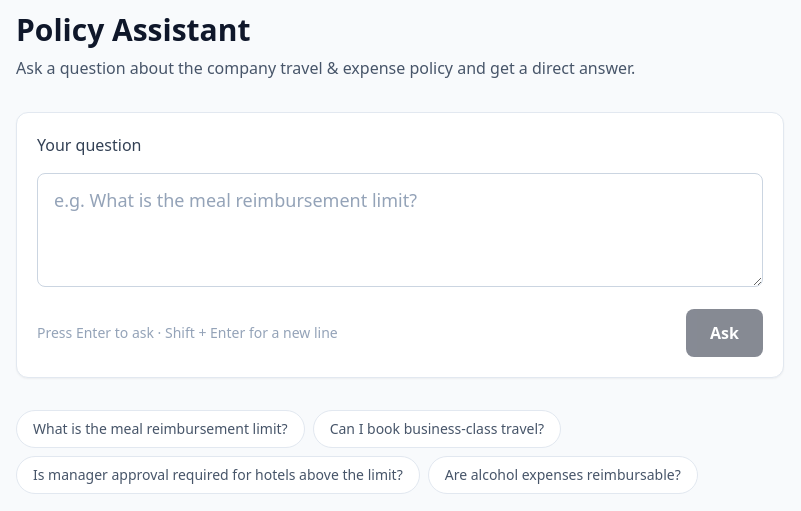
Scenario: PolicyAssistantPage › renders an error state when the request fails
The image size is (801, 511).
In the text box labelled "Your question": (400, 230) [37, 173, 763, 287], type "What is the meal limit?"
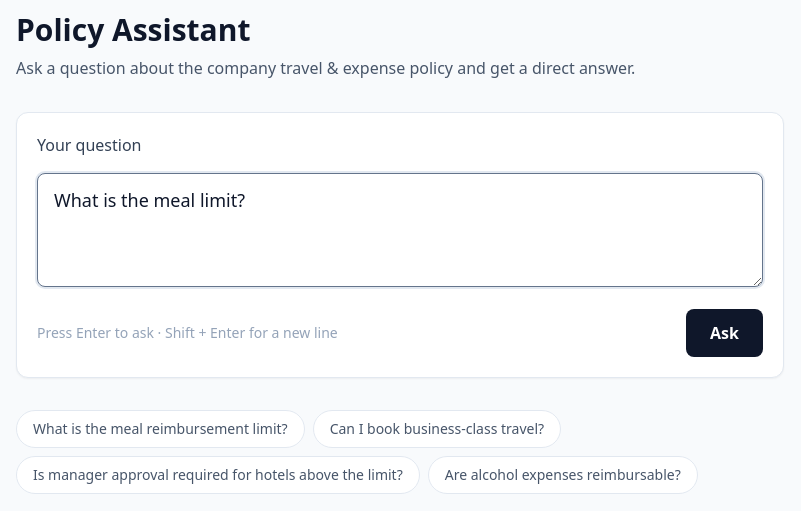
Click the button "Ask": click(725, 333) [686, 309, 763, 357]
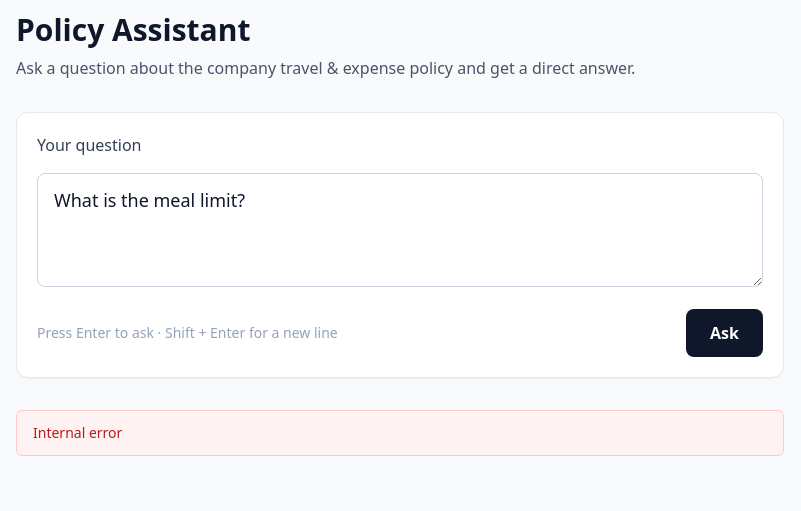
Check: the text "Internal error" is shown, box [16, 410, 784, 456]
